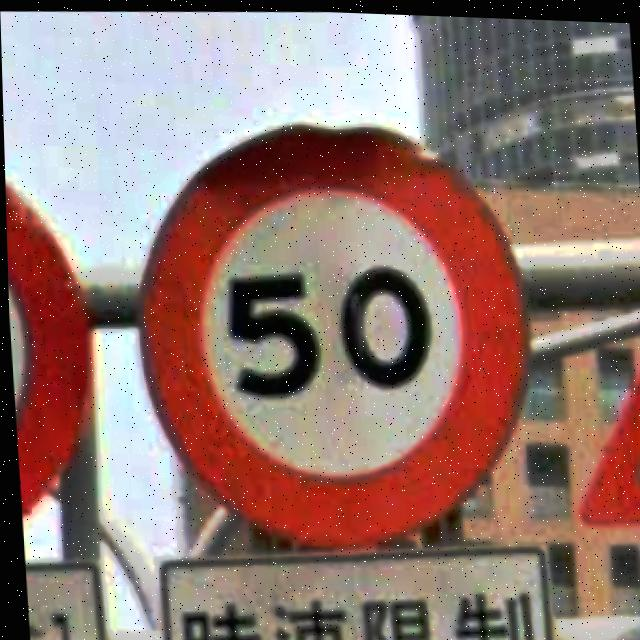max50: (120, 103, 541, 558)
